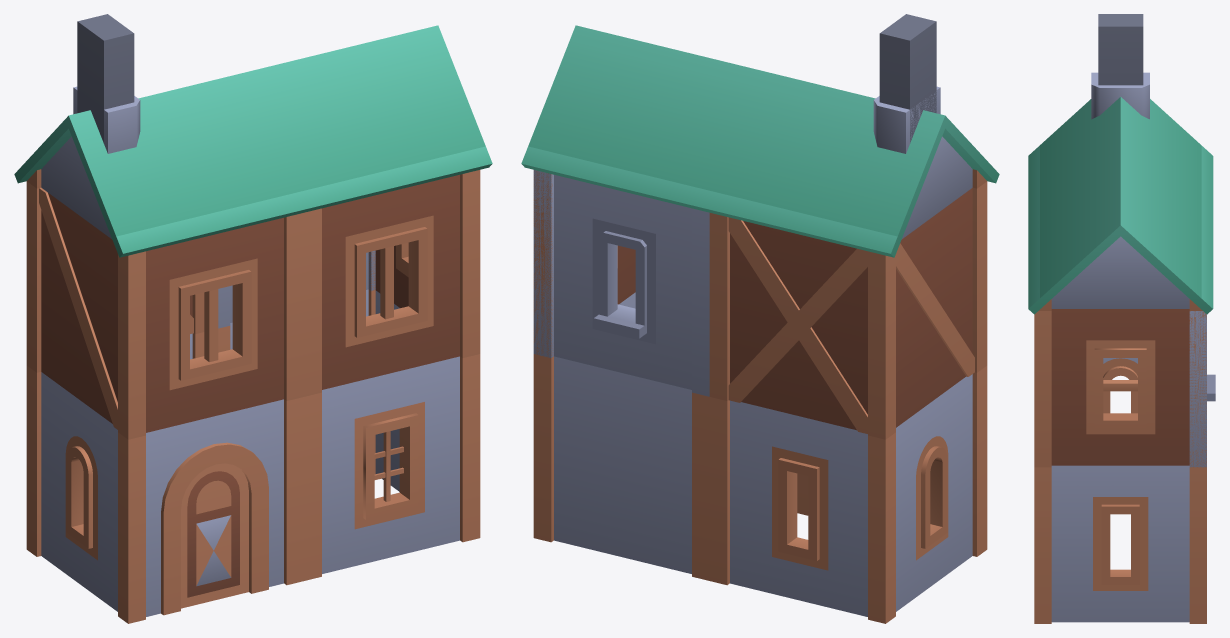
The model's file is cottage_b.glb.
3 views of the same model, side by side, from view 1: azimuth 30°, elevation 25°; view 2: azimuth 150°, elevation 25°; view 3: azimuth 270°, elevation 25° (orthographic). The views are drawn at different scales.
Parts seen in each view (by area): view 1: cottage_b_body; view 2: cottage_b_body; view 3: cottage_b_body.
Boxes of the visible parts, x1=… form: cottage_b_body: x1=14, y1=14, x2=492, y2=623; cottage_b_body: x1=521, y1=14, x2=999, y2=623; cottage_b_body: x1=1028, y1=14, x2=1215, y2=623.
Bounding box in the file's own units: 2.1 × 3 × 1.09.
Materials: 1 (1 with a texture image).
